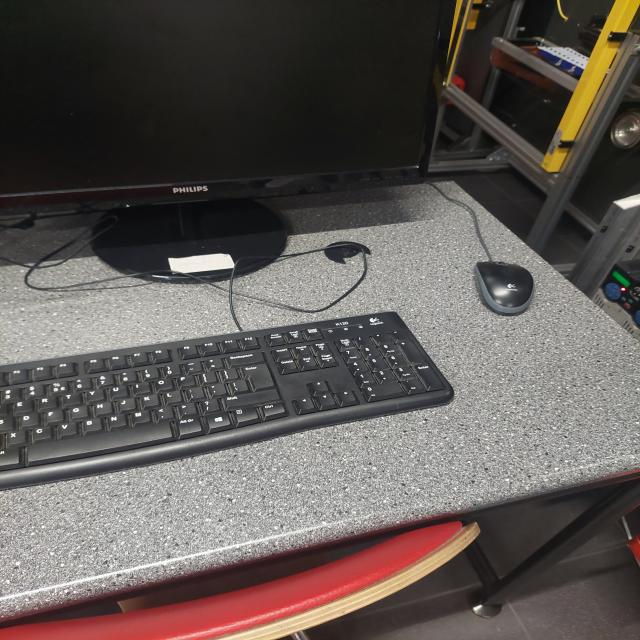mysz: (455, 255, 559, 324)
